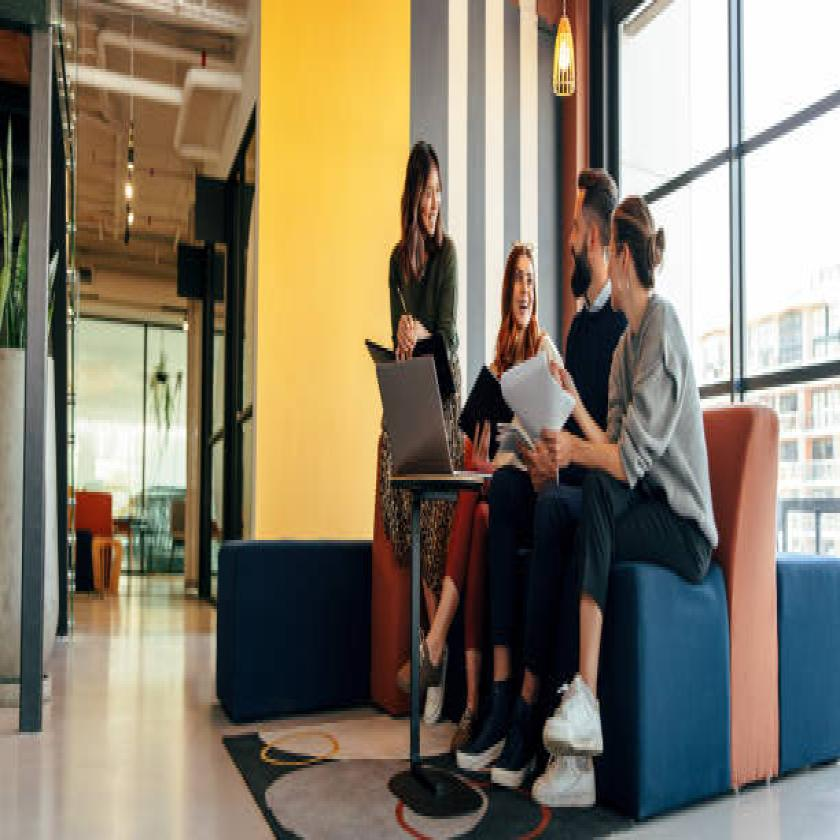Sin_casco: (399, 109, 460, 271), (598, 182, 662, 318), (563, 169, 613, 306), (503, 231, 543, 340)
